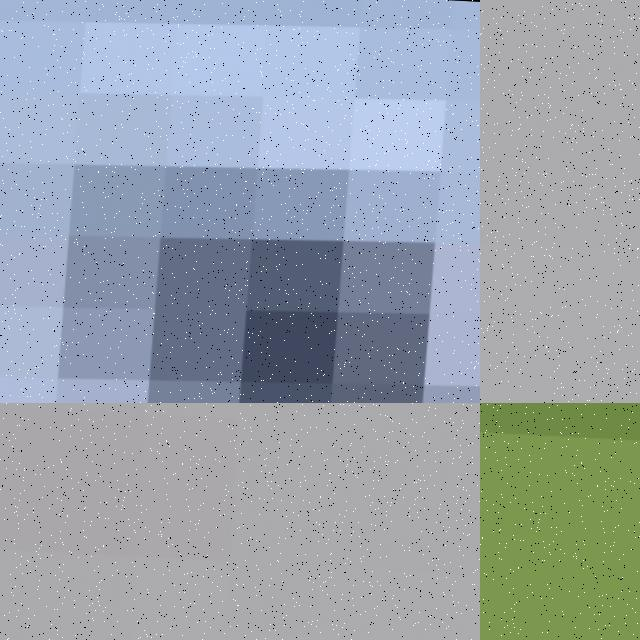drone: (0, 0, 480, 403)
